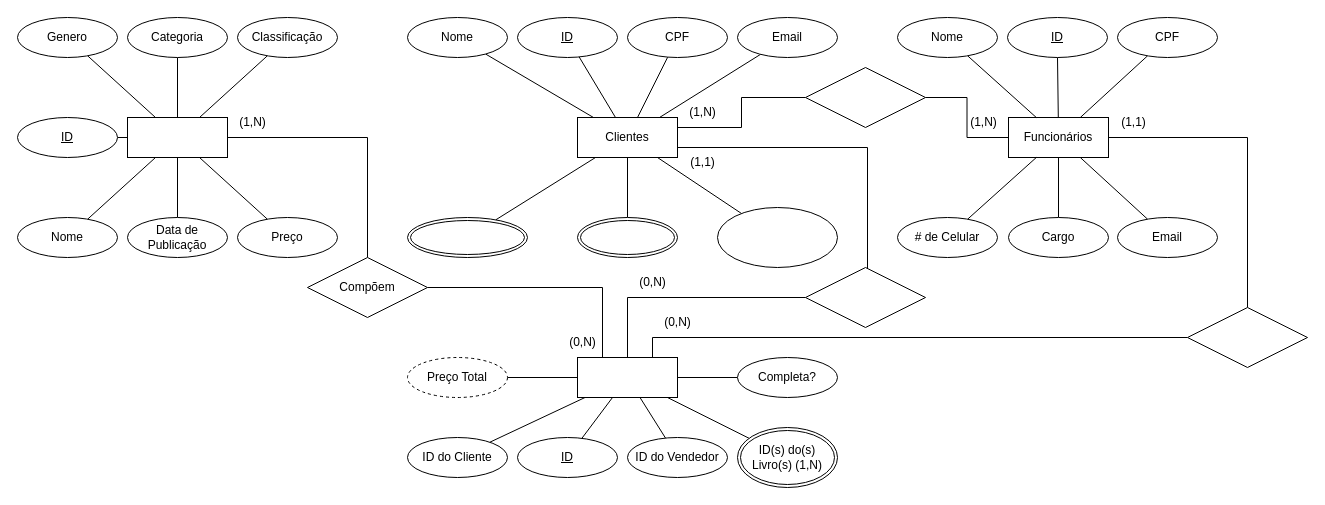
This 1325x505 diagram has some shape labels left out. The shapes that lost their labels are listed below. From the top down, each one's centre as x and y in pixels, then its label:
[865,97]: Reclamam da inscrição para
[177,137]: Livros
[467,237]: #(s) de Celular (1,N)
[627,237]: Compras Atuais (0,N)
[777,237]: # de Tentativas de cancelar a inscrição
[865,297]: Fazem
[1247,337]: Cuidam das
[627,377]: Vendas
